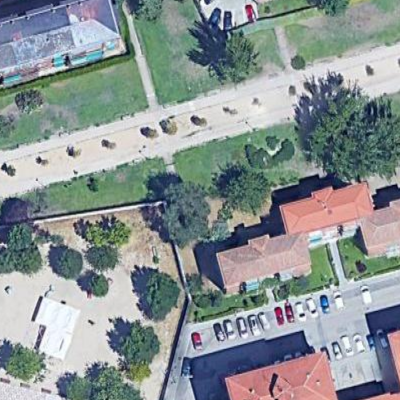tree: (309, 97, 395, 176), (156, 180, 210, 243), (207, 32, 265, 82), (63, 365, 144, 400), (222, 168, 276, 218), (137, 270, 184, 320), (114, 320, 165, 364), (2, 341, 48, 381), (80, 218, 131, 243), (3, 246, 44, 276), (51, 244, 85, 279), (4, 223, 42, 246), (85, 271, 116, 299), (87, 246, 121, 270)
